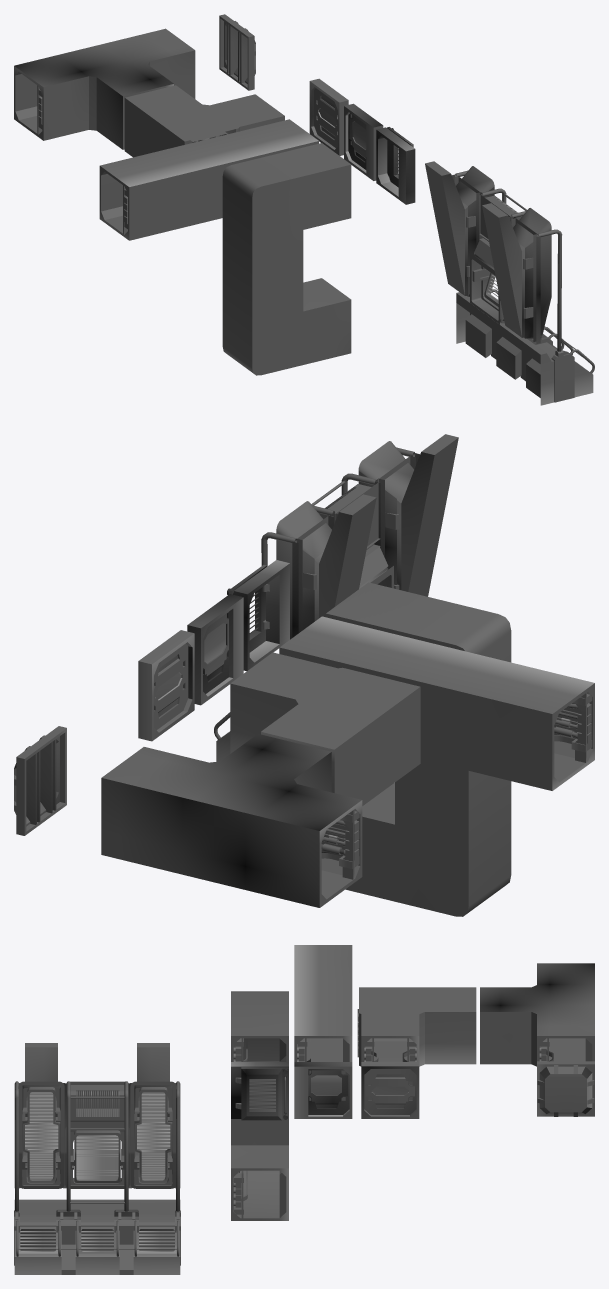
Rendered from Vent_Gameready.FBX.
The picture shows the model from 3 angles, top to bottom: view 1: azimuth 30°, elevation 25°; view 2: azimuth 150°, elevation 25°; view 3: azimuth 270°, elevation 25°; orthographic projection. The views are drawn at different scales.
Parts seen in each view (by area): view 1: sws; view 2: sws; view 3: sws.
Part boxes in pixels (<box>): sws: <box>14,14,594,405</box>; sws: <box>14,434,594,916</box>; sws: <box>14,945,594,1274</box>.
Bounding box in the file's own units: 269 × 160 × 426.
